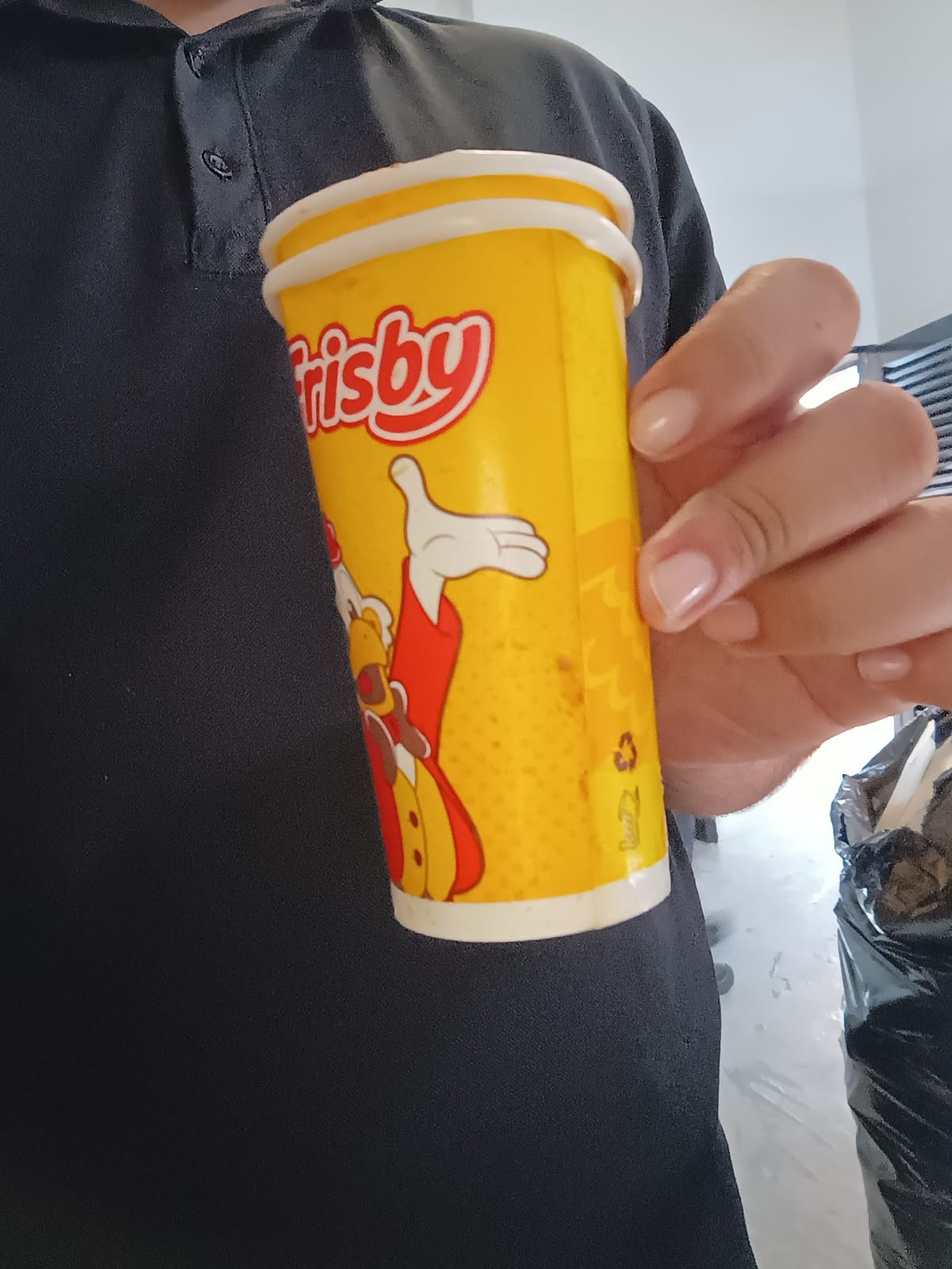Carton: (258, 150, 673, 945)
